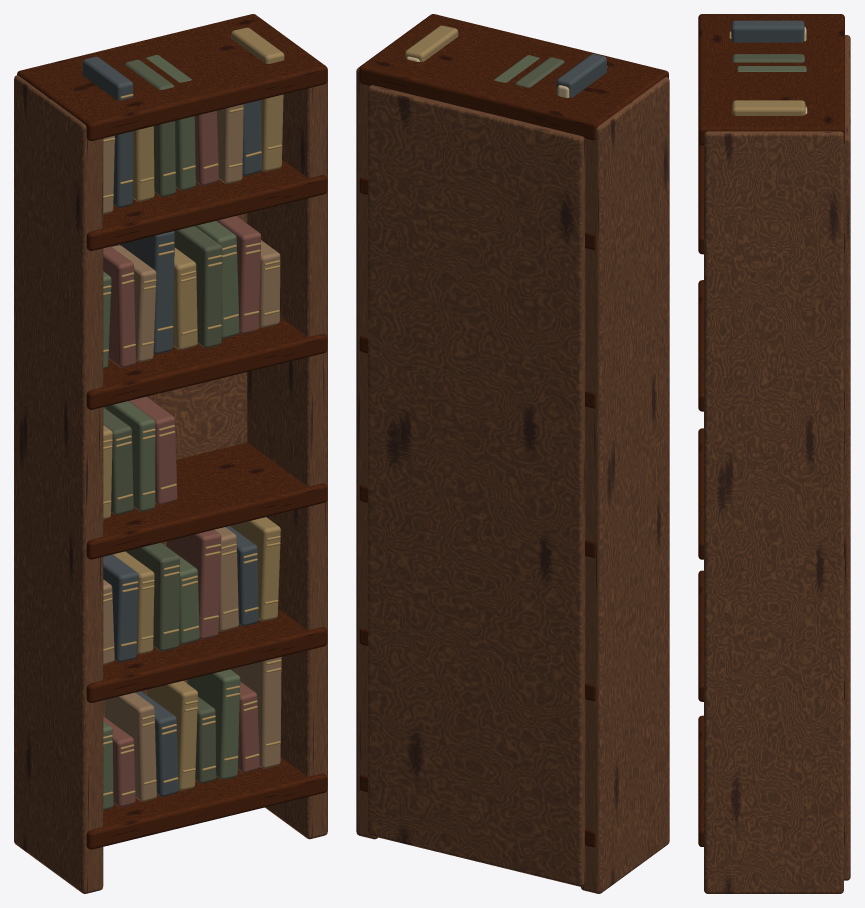
File: shelf.glb
3 views of the same model, side by side, from view 1: azimuth 30°, elevation 25°; view 2: azimuth 150°, elevation 25°; view 3: azimuth 270°, elevation 25° (orthographic).
Visible parts, largest first — view 1: shelf; view 2: shelf; view 3: shelf.
Part boxes in pixels (x1=…): shelf: x1=14, y1=14, x2=327, y2=893; shelf: x1=356, y1=14, x2=669, y2=893; shelf: x1=698, y1=14, x2=850, y2=893.
Size of the model in its own units: 0.843 by 2.58 by 0.457.
10 materials, 2 textured.
